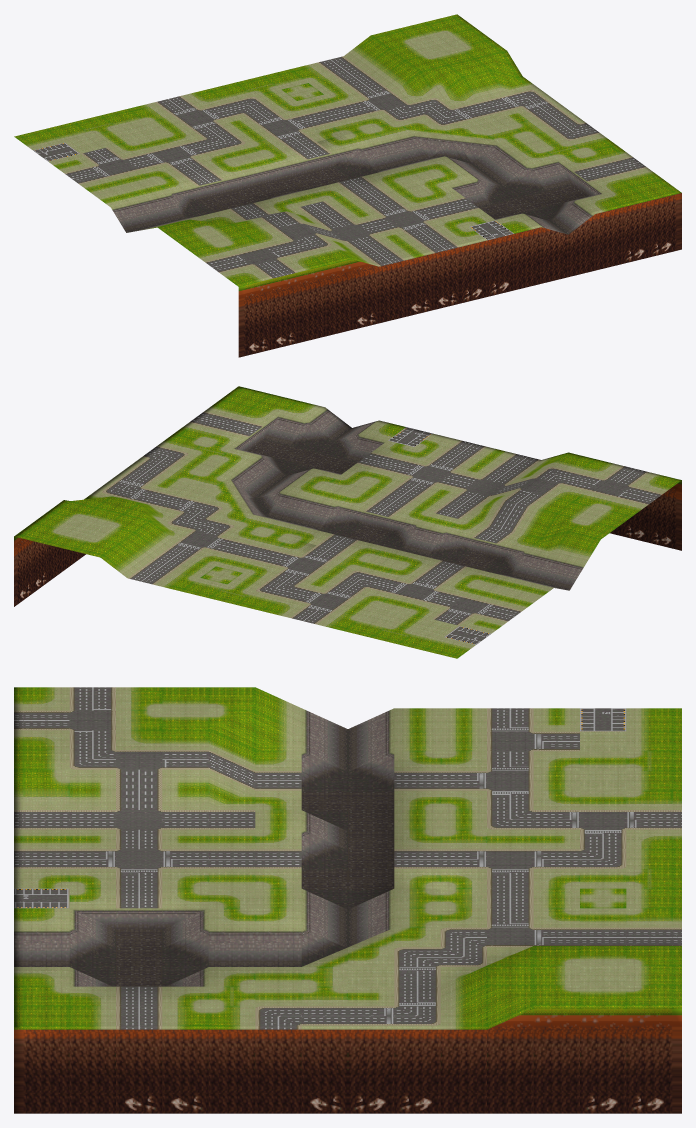
The model's file is Stage1.obj.
3 renders of one model, top to bottom at view 1: azimuth 30°, elevation 25°; view 2: azimuth 150°, elevation 25°; view 3: azimuth 270°, elevation 25°, orthographic. The views are drawn at different scales.
Parts seen in each view (by area): view 1: ST01; view 2: ST01; view 3: ST01.
Part boxes in pixels (bbox=[...]): ST01: bbox=[14, 14, 681, 357]; ST01: bbox=[14, 386, 681, 658]; ST01: bbox=[14, 687, 681, 1113].
Bounding box in the file's own units: 1640 × 250 × 1440.
Materials: 1 (1 with a texture image).
